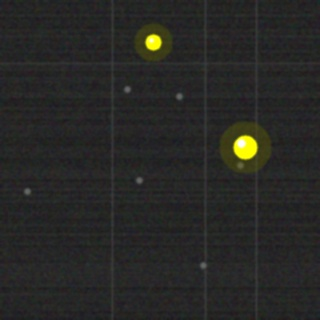yellow_warning: (231, 133, 259, 161), (143, 32, 163, 52)
